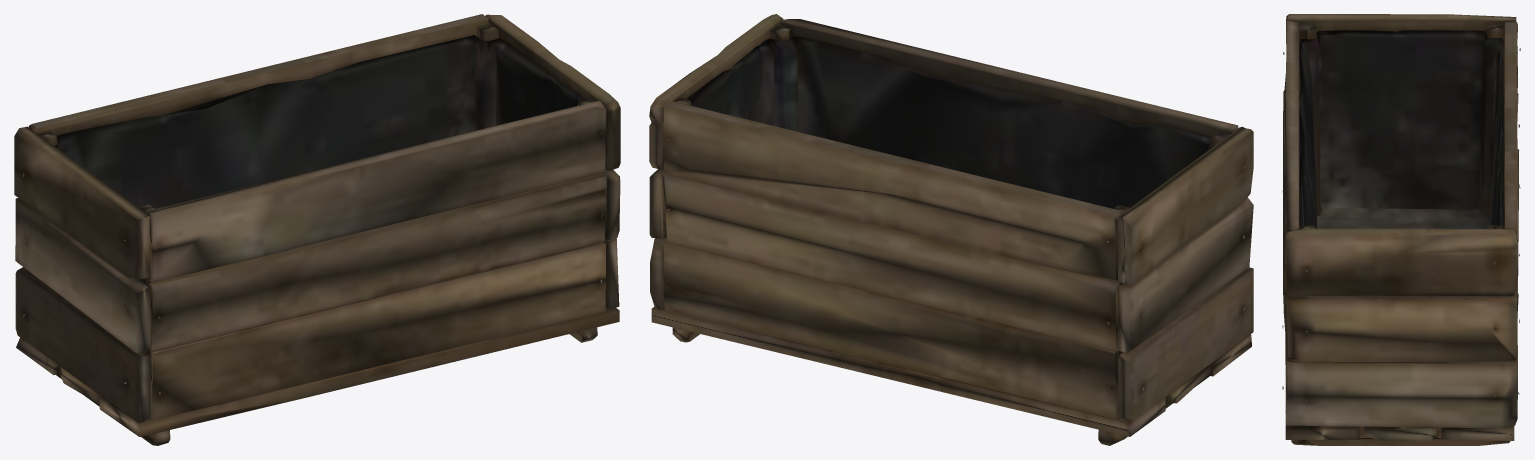
File: planter.glb
3 renders of one model, left to right at view 1: azimuth 30°, elevation 25°; view 2: azimuth 150°, elevation 25°; view 3: azimuth 270°, elevation 25°, orthographic. The views are drawn at different scales.
Visible parts, largest first — view 1: planter_box_01; view 2: planter_box_01; view 3: planter_box_01.
Boxes of the visible parts, x1,y1,x2,y2 form: planter_box_01: (14, 14, 620, 445); planter_box_01: (649, 14, 1253, 445); planter_box_01: (1282, 14, 1520, 445).
Bounding box in the file's own units: 0.9126 × 0.4249 × 0.4135.
1 material, 1 textured.
